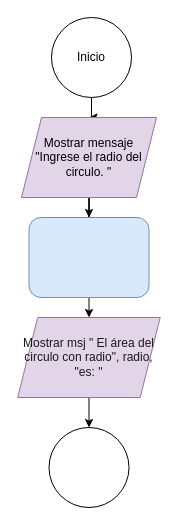
Image size: 178x525. Some labels were removed from this diagram. Here are the shapes that lost their labels. From the top down, the centre of each, then its label:
At (88,257): "Definir y asignar a la variable área el resultado de la fórmula".
At (88,467): "Fin".
